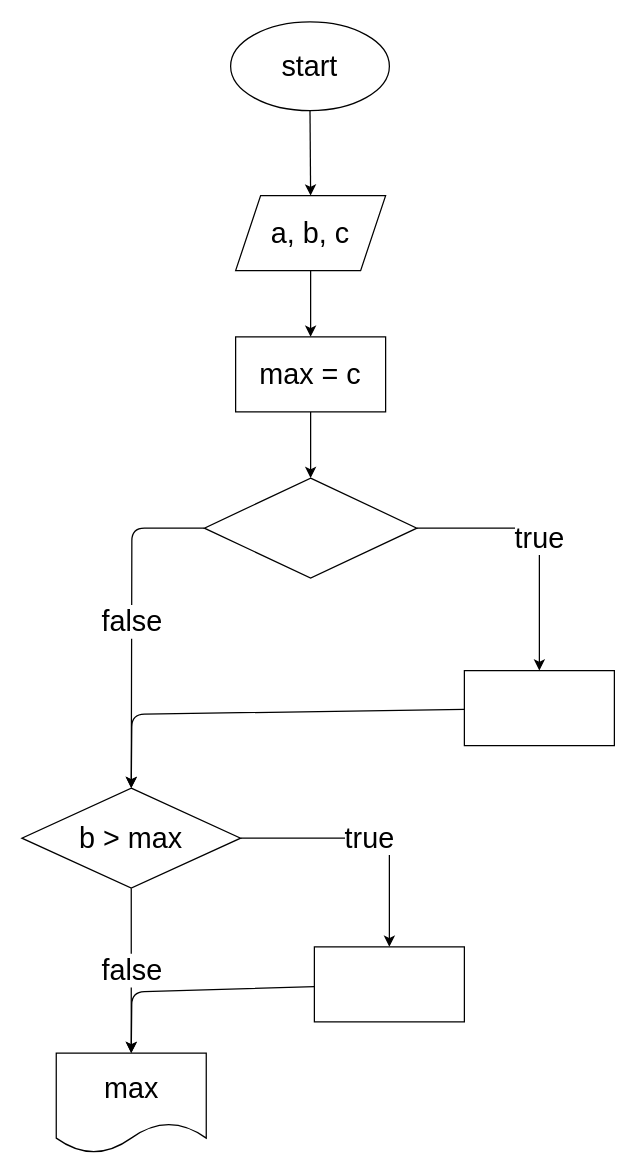
Image size: 636x1175. Some labels were removed from this diagram. The box of each missing label's shape, as (x1, y1, x2, y2) in pixels:
a > max: (203, 477, 417, 578)
max = a: (463, 669, 614, 746)
max = b: (313, 946, 464, 1022)
